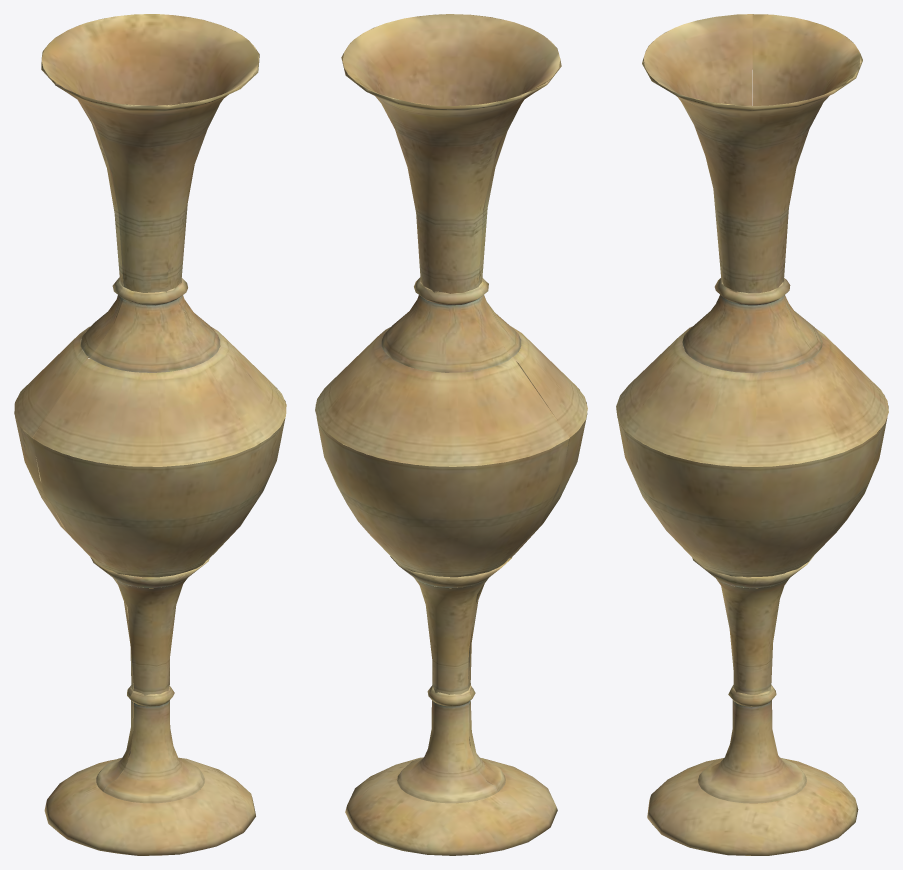
The model's file is ph_brass_vase_01.glb.
3 renders of one model, left to right at view 1: azimuth 30°, elevation 25°; view 2: azimuth 150°, elevation 25°; view 3: azimuth 270°, elevation 25°, orthographic.
Parts seen in each view (by area): view 1: brass_vase_01; view 2: brass_vase_01; view 3: brass_vase_01.
Part boxes in pixels (box(x1,y1,x2,y2)): brass_vase_01: box(14, 14, 286, 855); brass_vase_01: box(315, 14, 587, 855); brass_vase_01: box(616, 14, 888, 855).
Size of the model in its own units: 0.2282 by 0.6929 by 0.2278.
Materials: 1 (1 with a texture image).
